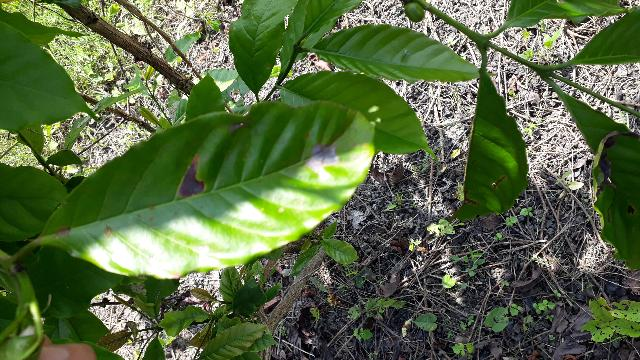red_spider_mite: (39, 98, 382, 278)
